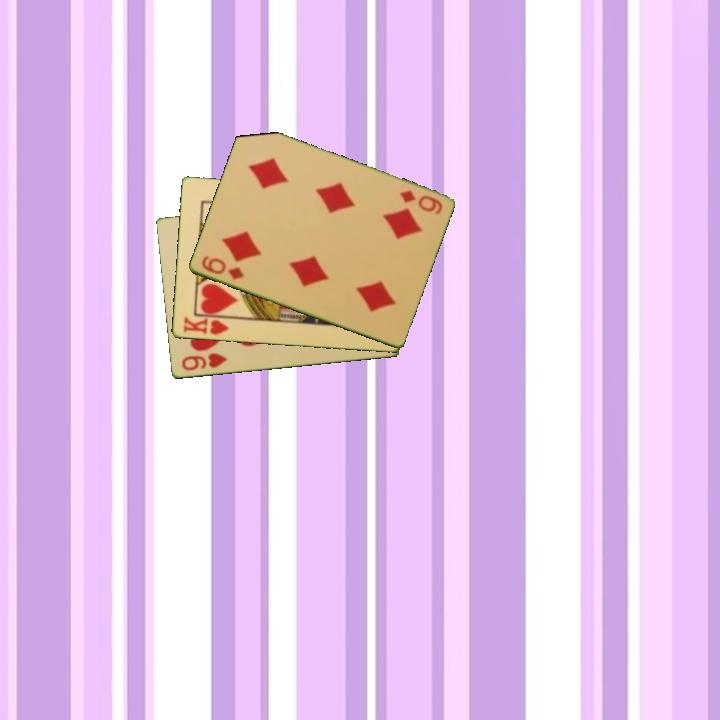6d: (198, 252, 247, 283), (395, 187, 445, 217)
9h: (178, 350, 230, 374)
Kh: (180, 312, 235, 338)
